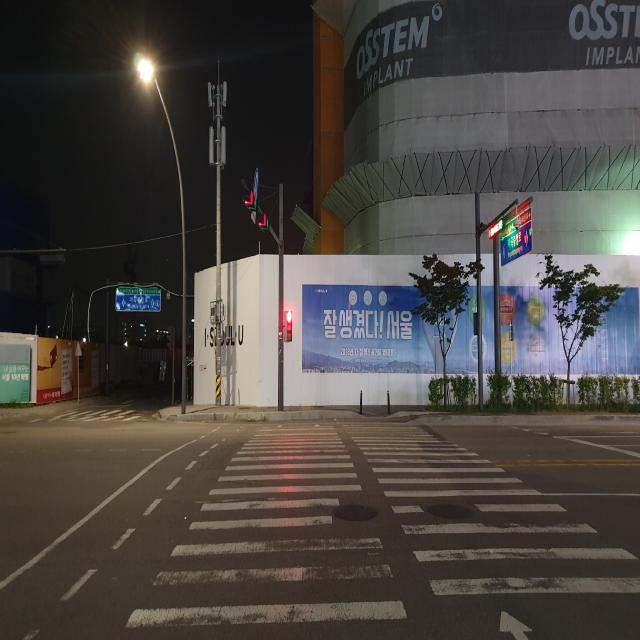빨간불: (285, 311, 293, 344)
횡단보도: (122, 416, 640, 640)
